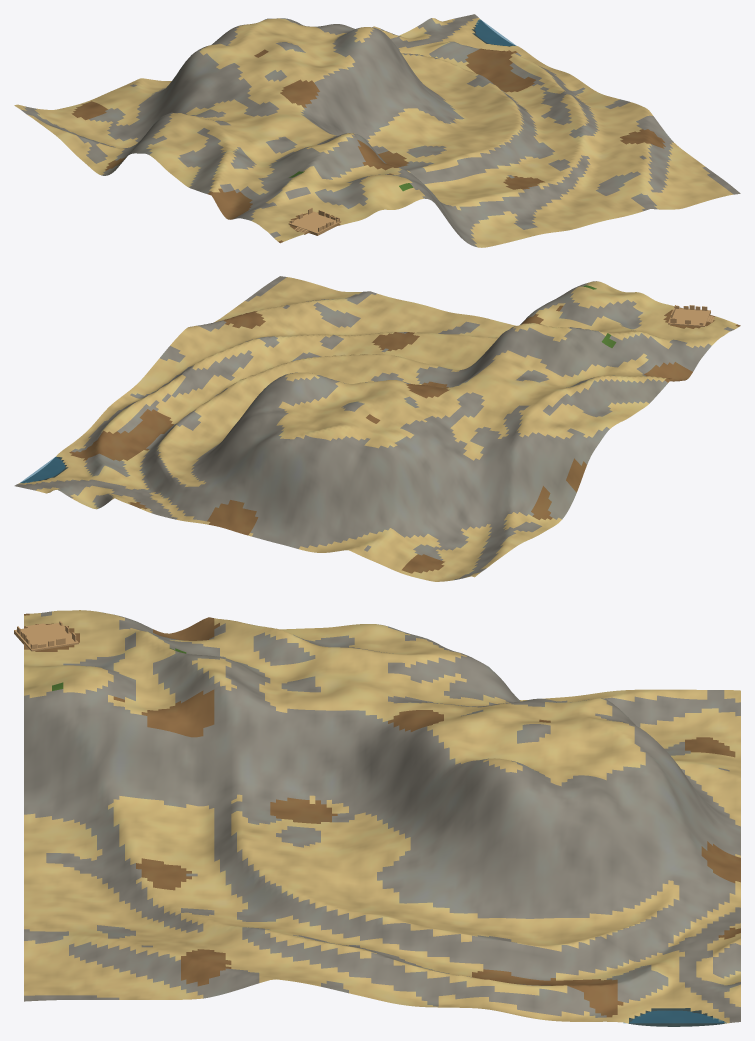
File: chunk_6_6.glb
3 views of the same model, one above another, from view 1: azimuth 30°, elevation 25°; view 2: azimuth 150°, elevation 25°; view 3: azimuth 270°, elevation 25° (orthographic). The views are drawn at different scales.
Visible parts, largest first — view 1: Surface_Sand, Surface_Gravel, Surface_Dirt, Structure_sunken_temple, Water, Surface_Water; view 2: Surface_Gravel, Surface_Sand, Surface_Dirt, Structure_sunken_temple, Water; view 3: Surface_Gravel, Surface_Sand, Surface_Dirt, Surface_Water, Structure_sunken_temple, Water.
Part boxes in pixels (box(x1,y1,x2,y2)): Surface_Sand: box(14, 18, 733, 247); Surface_Gravel: box(21, 14, 740, 247); Surface_Dirt: box(71, 48, 665, 243); Structure_sunken_temple: box(288, 207, 341, 235); Water: box(475, 19, 516, 45); Surface_Water: box(472, 20, 515, 46); Surface_Gravel: box(14, 276, 734, 580); Surface_Sand: box(18, 277, 738, 581); Surface_Dirt: box(69, 305, 740, 573); Structure_sunken_temple: box(668, 305, 714, 326); Water: box(20, 456, 65, 483); Surface_Gravel: box(24, 611, 740, 1022); Surface_Sand: box(24, 610, 740, 1023); Surface_Dirt: box(24, 613, 740, 1017); Surface_Water: box(629, 1008, 724, 1026); Structure_sunken_temple: box(14, 621, 78, 651); Water: box(623, 1010, 726, 1023).
Bounding box in the file's own units: 256 × 54.75 × 260.
